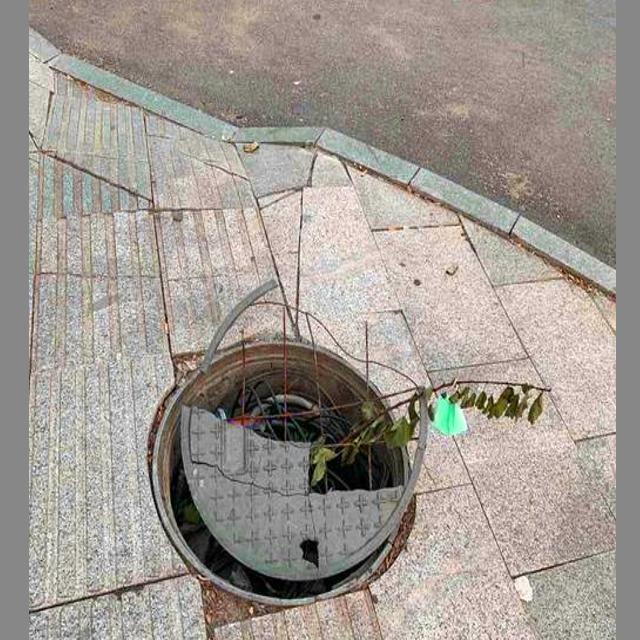broke: (132, 303, 444, 625)
